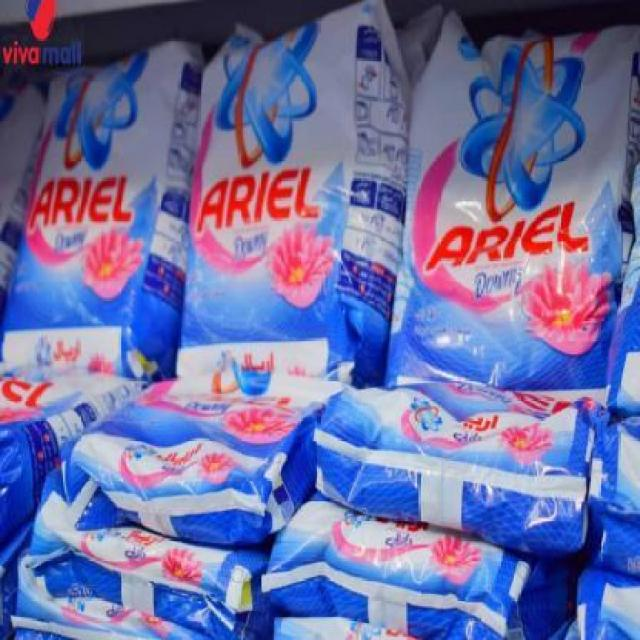Detergent: (394, 13, 623, 399), (193, 25, 395, 384), (18, 34, 184, 378), (322, 332, 588, 525), (88, 366, 300, 539), (262, 501, 522, 639), (35, 490, 238, 618)
